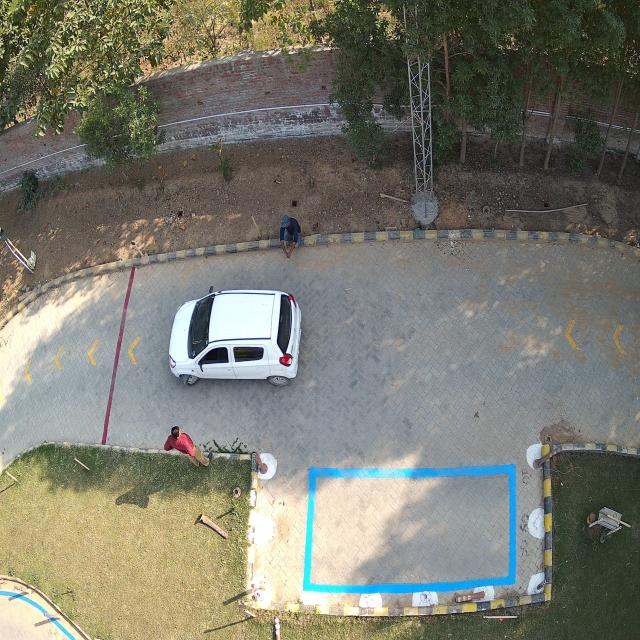car: (169, 290, 301, 385)
